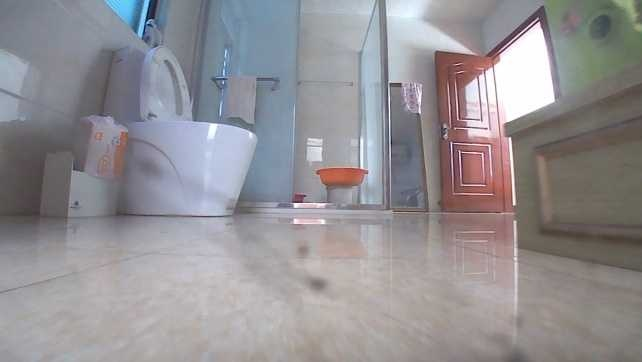door_anno: (424, 46, 515, 215)
toilet: (86, 39, 260, 220)
